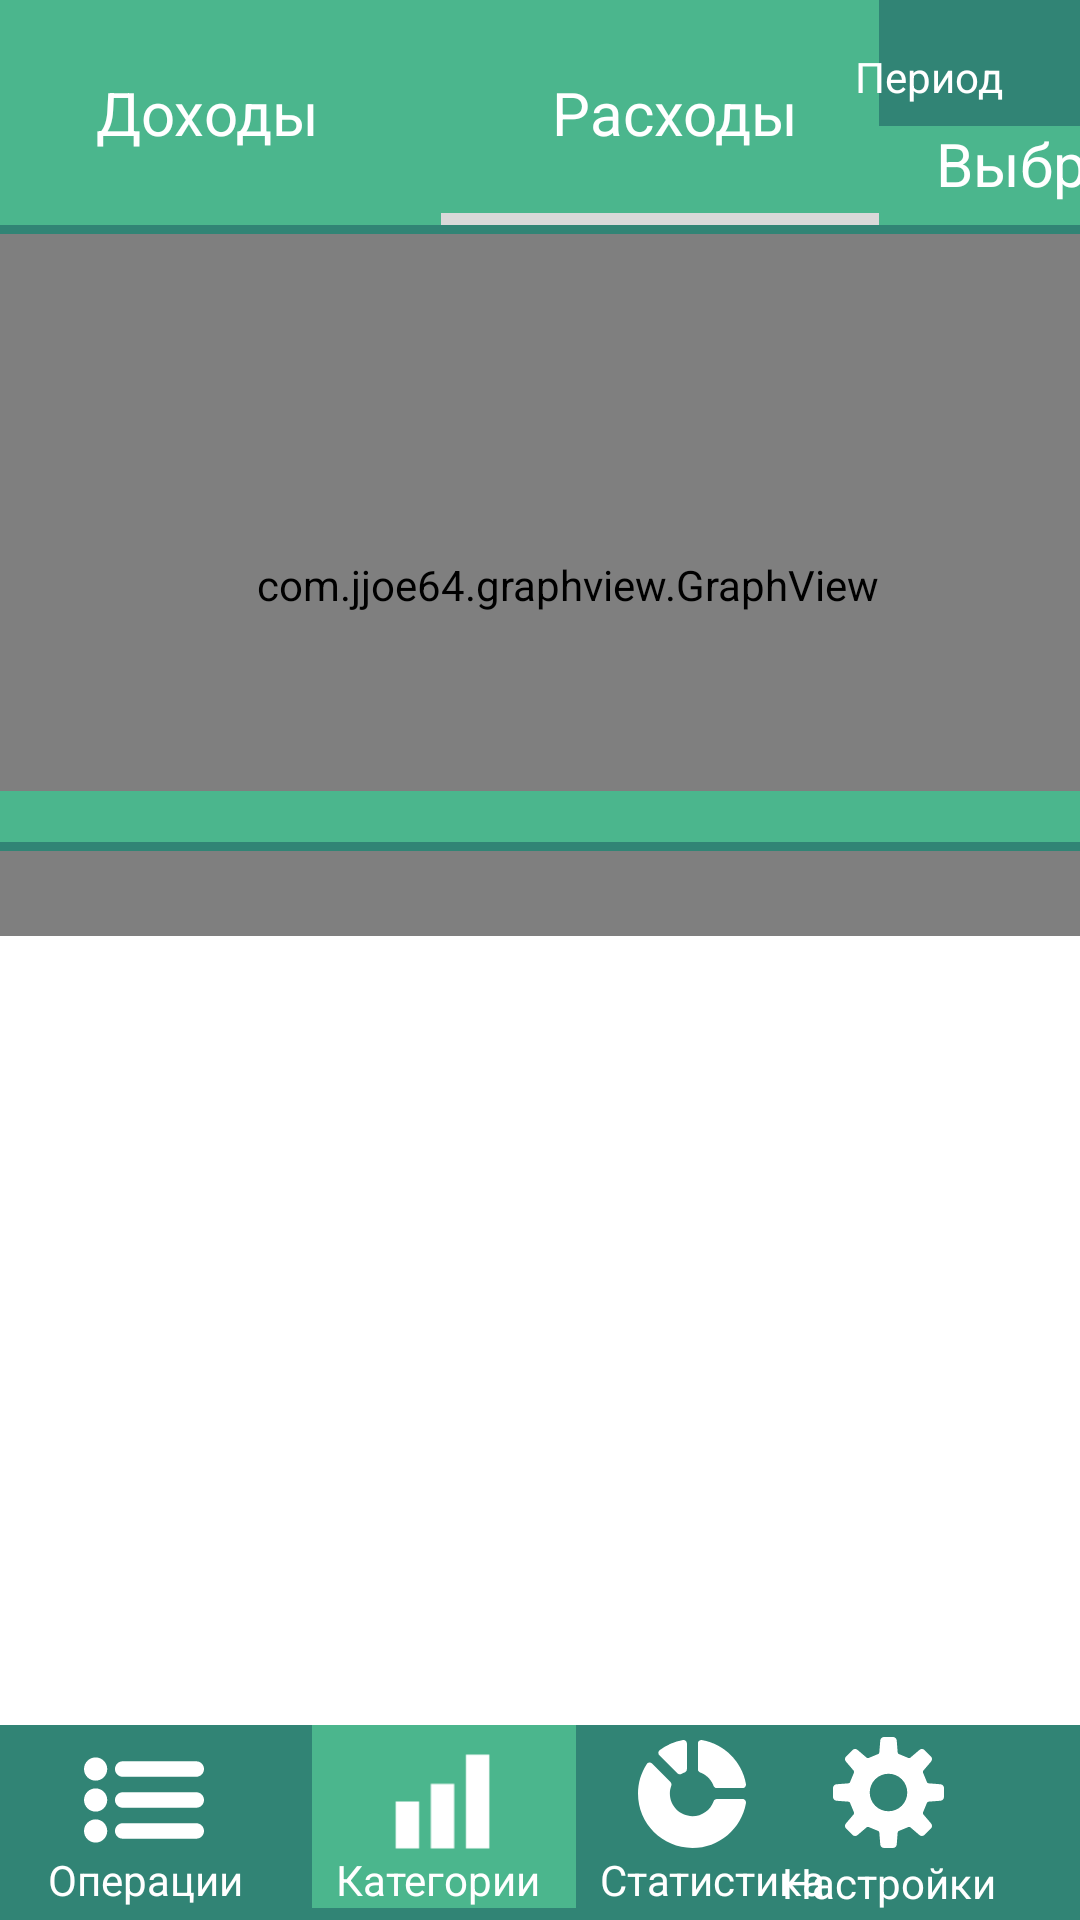

Where to tap for icons on this 1080 × 1920 app screen, as (x=x, y=y):
chart bar: (x=442, y=1801)
diagram circ: (x=692, y=1794)
gear: (x=888, y=1792)
list: (x=144, y=1800)
